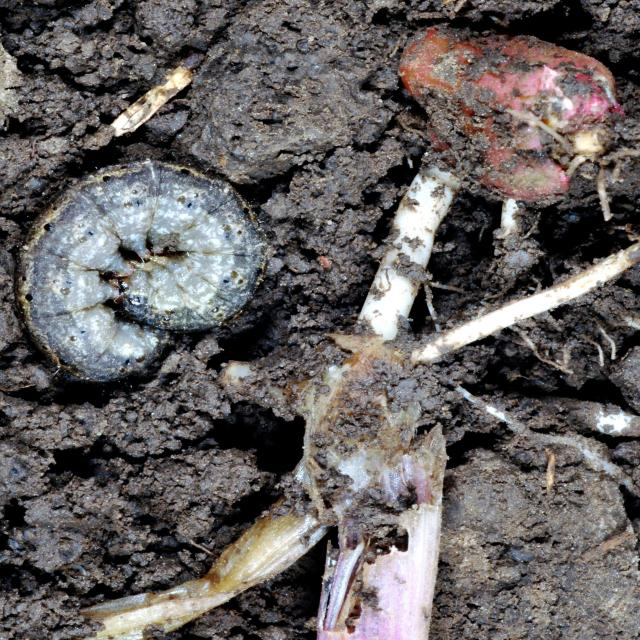black cutworm: (34, 167, 256, 410)
